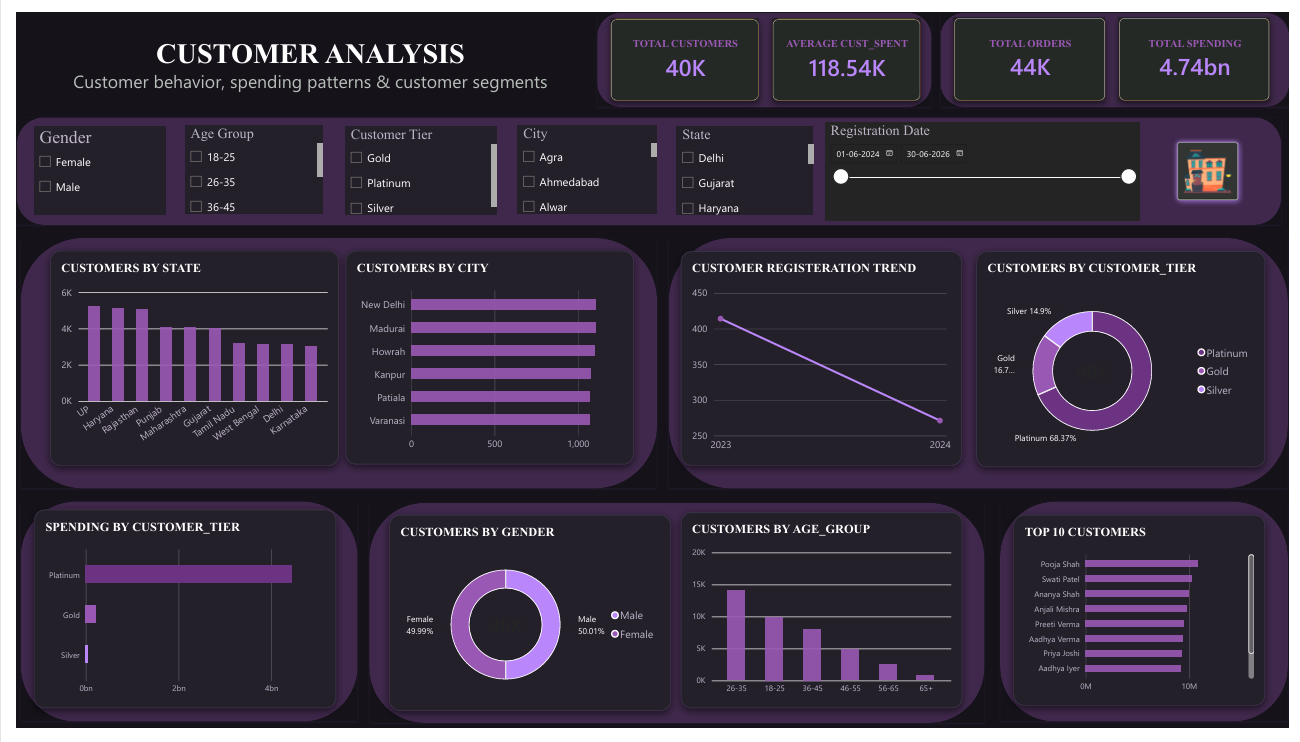

The page's visual inventory and layout, read from the dashboard file:
{"tool":"powerbi","page":{"name":"CUSTOMER","canvas":[1920,1080],"ordinal":1},"visuals":[{"type":"textbox","box":[10,36,866,158],"z":0},{"type":"shape","box":[876,0,504,142],"z":1000,"group":"g5"},{"type":"shape","box":[1394,0,526,142],"z":1000,"group":"g1"},{"type":"group","id":"g1","title":"Group 1","box":[1394,0,526,142],"z":1000},{"type":"cardVisual","title":"TOTAL CUSTOMERS","fields":{"Data":["customer.AVERAGE CUSTOMER SPENDING"]},"box":[1140,8.9,224,124.2],"z":2000,"group":"g5"},{"type":"group","id":"g2","title":"Group 2","box":[532,740,928,332],"z":2000},{"type":"shape","box":[6,738,508,332],"z":3000},{"type":"cardVisual","title":"TOTAL CUSTOMERS","fields":{"Data":["customer.TOTAL SPENDING"]},"box":[1663.1,7.3,228.3,125.9],"z":4000,"group":"g1"},{"type":"cardVisual","title":"TOTAL CUSTOMERS","fields":{"Data":["customer.TOTAL CUSTOMERS"]},"box":[896,8.9,224,124.2],"z":4000,"group":"g5"},{"type":"clusteredBarChart","title":"SPENDING BY CUSTOMER_TIER","fields":{"Category":["customer.Customer_Tier"],"Y":["customer.TOTAL SPENDING"]},"box":[26,750,456,300],"z":4000},{"type":"shape","box":[1484,738,434,332],"z":5000},{"type":"shape","box":[532,740,928,332],"z":5000,"group":"g2"},{"type":"group","id":"g3","title":"Group 3","box":[6,340,960,378],"z":6000},{"type":"donutChart","title":"CUSTOMERS BY GENDER","fields":{"Category":["customer.Gender"],"Y":["Count(customer.Customer_ID)"]},"box":[562,758,425,296],"z":6000,"group":"g2"},{"type":"cardVisual","title":"TOTAL CUSTOMERS","fields":{"Data":["customer.TOTAL ORDERS"]},"box":[1414.4,7.3,228.3,125.9],"z":7000,"group":"g1"},{"type":"shape","box":[6,340,960,378],"z":7000,"group":"g3"},{"type":"shape","box":[984,340,934,378],"z":7000,"group":"g4"},{"type":"group","id":"g4","title":"Group 3","box":[984,340,934,378],"z":7000,"group":"g6"},{"type":"clusteredColumnChart","title":"CUSTOMERS BY AGE_GROUP","fields":{"Category":["customer.Age_Group"],"Y":["Count(customer.Customer_ID)"]},"box":[1002,754,425,296],"z":7000,"group":"g2"},{"type":"clusteredBarChart","title":"TOP 10 CUSTOMERS","fields":{"Category":["customer.Customer_Name"],"Y":["customer.TOTAL SPENDING"]},"box":[1504,758,380,288],"z":7000},{"type":"group","id":"g5","title":"Group 4","box":[876,0,504,142],"z":8000},{"type":"donutChart","title":"CUSTOMERS BY CUSTOMER_TIER","fields":{"Category":["customer.Customer_Tier"],"Y":["Count(customer.Customer_ID)"]},"box":[1448,360,436,326],"z":8000,"group":"g6"},{"type":"group","id":"g6","title":"Group 5","box":[984,340,934,378],"z":9000},{"type":"clusteredColumnChart","title":"CUSTOMERS BY STATE","fields":{"Category":["customer.State"],"Y":["Count(customer.Customer_ID)"]},"box":[49.6,359,436.4,325.2],"z":9000,"group":"g3"},{"type":"lineChart","title":"CUSTOMER REGISTERATION TREND","fields":{"Category":["customer.Registration_Date.Variation.Date Hierarchy.Year","customer.Registration_Date.Variation.Date Hierarchy.Quarter","customer.Registration_Date.Variation.Date Hierarchy.Month","customer.Registration_Date.Variation.Date Hierarchy.Day"],"Y":["Count(customer.Customer_ID)"]},"box":[1002,360,424,324],"z":9000,"group":"g6"},{"type":"shape","box":[0,158,1908,162],"z":10000},{"type":"clusteredBarChart","title":"CUSTOMERS BY CITY","fields":{"Category":["customer.City"],"Y":["Count(customer.Customer_ID)"]},"box":[496.4,359,434.3,323.1],"z":10000,"group":"g3"},{"type":"slicer","fields":{"Values":["customer.Gender"]},"box":[26,172,198,134],"z":11000},{"type":"slicer","fields":{"Values":["customer.Customer_Tier"]},"box":[496,172,228,134],"z":12000},{"type":"slicer","fields":{"Values":["customer.Age_Group"]},"box":[254,170,208,134],"z":13000},{"type":"slicer","fields":{"Values":["customer.City"]},"box":[756,170,210,134],"z":14000},{"type":"slicer","fields":{"Values":["customer.State"]},"box":[996,172,206,134],"z":15000},{"type":"slicer","fields":{"Values":["sales.Order_Date"]},"box":[1220,166,474,148],"z":16000},{"type":"actionButton","box":[1742,186,110,106],"z":17000}]}

Visuals, with their boxes in screenshot pixels (x1, y1, x2, y2), scaled from the page's 1920x1080 canvas onto the 1300x742 screenshot:
textbox: [left=7, top=25, right=593, bottom=133]
shape: [left=593, top=0, right=934, bottom=98]
shape: [left=944, top=0, right=1299, bottom=98]
"Group 1" group: [left=944, top=0, right=1299, bottom=98]
"TOTAL CUSTOMERS" cardVisual: [left=772, top=6, right=924, bottom=91]
"Group 2" group: [left=360, top=508, right=989, bottom=737]
shape: [left=4, top=507, right=348, bottom=735]
"TOTAL CUSTOMERS" cardVisual: [left=1126, top=5, right=1281, bottom=92]
"TOTAL CUSTOMERS" cardVisual: [left=607, top=6, right=758, bottom=91]
"SPENDING BY CUSTOMER_TIER" clusteredBarChart: [left=18, top=515, right=326, bottom=721]
shape: [left=1005, top=507, right=1299, bottom=735]
shape: [left=360, top=508, right=989, bottom=737]
"Group 3" group: [left=4, top=234, right=654, bottom=493]
"CUSTOMERS BY GENDER" donutChart: [left=381, top=521, right=668, bottom=724]
"TOTAL CUSTOMERS" cardVisual: [left=958, top=5, right=1112, bottom=92]
shape: [left=4, top=234, right=654, bottom=493]
shape: [left=666, top=234, right=1299, bottom=493]
"Group 3" group: [left=666, top=234, right=1299, bottom=493]
"CUSTOMERS BY AGE_GROUP" clusteredColumnChart: [left=678, top=518, right=966, bottom=721]
"TOP 10 CUSTOMERS" clusteredBarChart: [left=1018, top=521, right=1276, bottom=719]
"Group 4" group: [left=593, top=0, right=934, bottom=98]
"CUSTOMERS BY CUSTOMER_TIER" donutChart: [left=980, top=247, right=1276, bottom=471]
"Group 5" group: [left=666, top=234, right=1299, bottom=493]
"CUSTOMERS BY STATE" clusteredColumnChart: [left=34, top=247, right=329, bottom=470]
"CUSTOMER REGISTERATION TREND" lineChart: [left=678, top=247, right=966, bottom=470]
shape: [left=0, top=109, right=1292, bottom=220]
"CUSTOMERS BY CITY" clusteredBarChart: [left=336, top=247, right=630, bottom=469]
slicer - customer.Gender: [left=18, top=118, right=152, bottom=210]
slicer - customer.Customer_Tier: [left=336, top=118, right=490, bottom=210]
slicer - customer.Age_Group: [left=172, top=117, right=313, bottom=209]
slicer - customer.City: [left=512, top=117, right=654, bottom=209]
slicer - customer.State: [left=674, top=118, right=814, bottom=210]
slicer - sales.Order_Date: [left=826, top=114, right=1147, bottom=216]
actionButton: [left=1179, top=128, right=1254, bottom=201]
